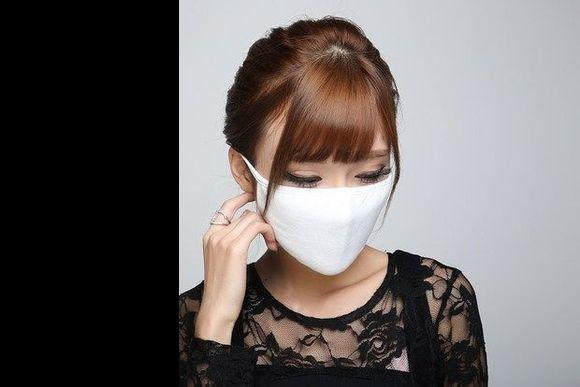OK: (253, 135, 396, 272)
